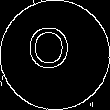O_S: (34, 30, 76, 80)
